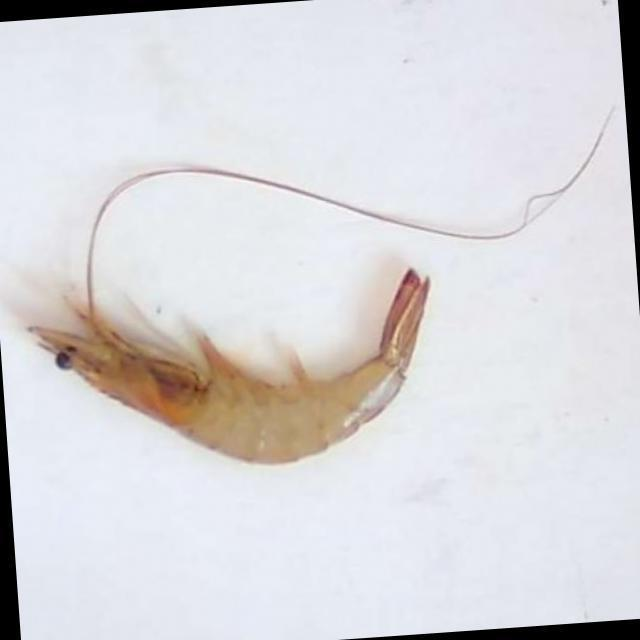shrimp: (28, 270, 430, 463)
